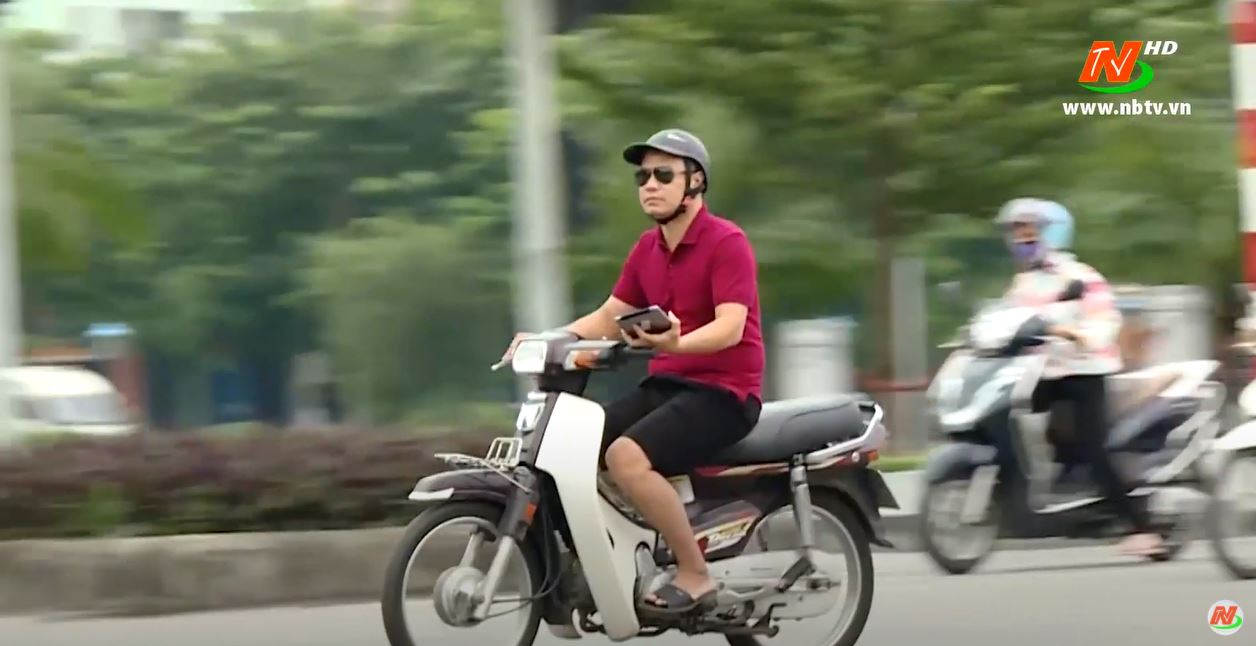dieu khien xe may: (496, 126, 752, 580)
su dung dien thoai: (612, 130, 710, 345)
